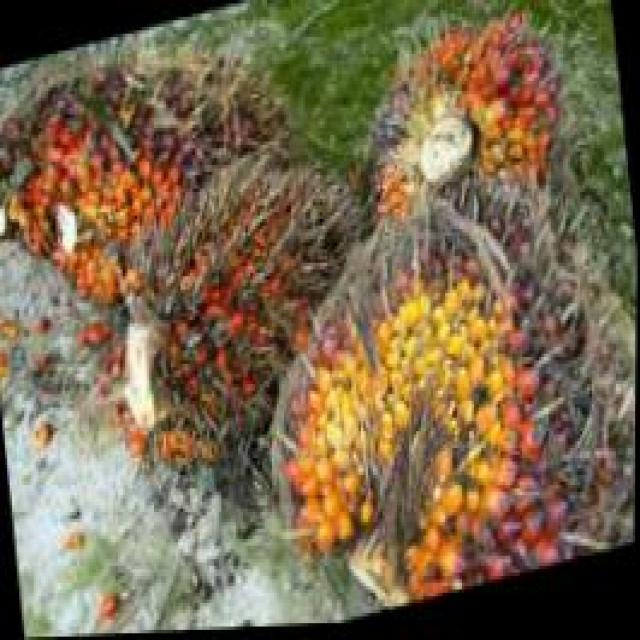Ripefruit: (254, 155, 639, 630), (0, 30, 289, 317), (350, 0, 583, 232)
